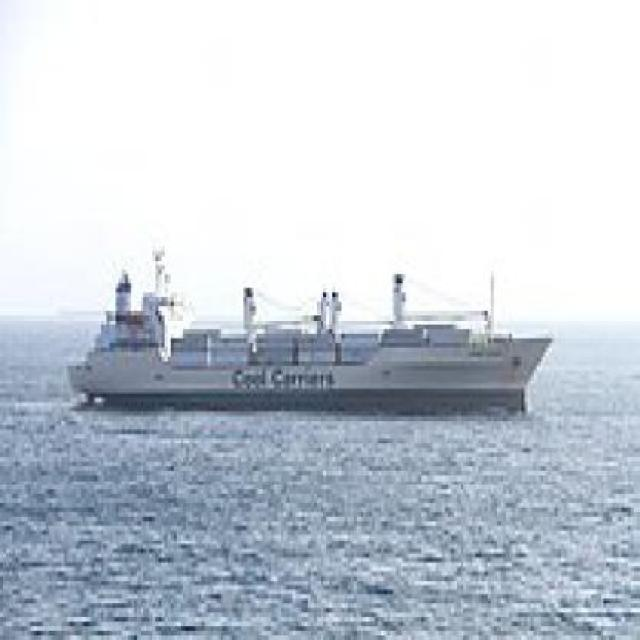container: (52, 225, 565, 440)
